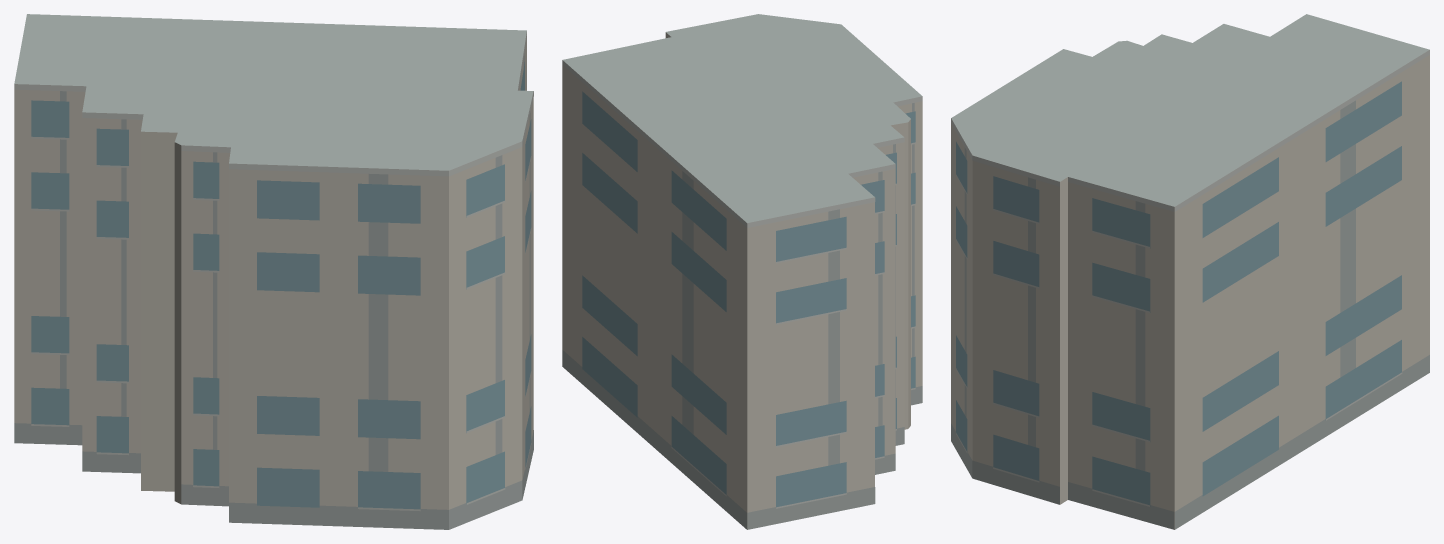
File: survey-upis-32768847.glb
The picture shows the model from 3 angles, left to right: view 1: azimuth 30°, elevation 25°; view 2: azimuth 150°, elevation 25°; view 3: azimuth 270°, elevation 25°; orthographic projection. The views are drawn at different scales.
Parts seen in each view (by area): view 1: survey-upis-32768847.tmp; view 2: survey-upis-32768847.tmp; view 3: survey-upis-32768847.tmp.
Boxes of the visible parts, <box> form: survey-upis-32768847.tmp: <box>14,14,533,529</box>; survey-upis-32768847.tmp: <box>562,14,922,529</box>; survey-upis-32768847.tmp: <box>951,14,1429,529</box>.
Size of the model in its own units: 19.79 by 15.45 by 20.76.
